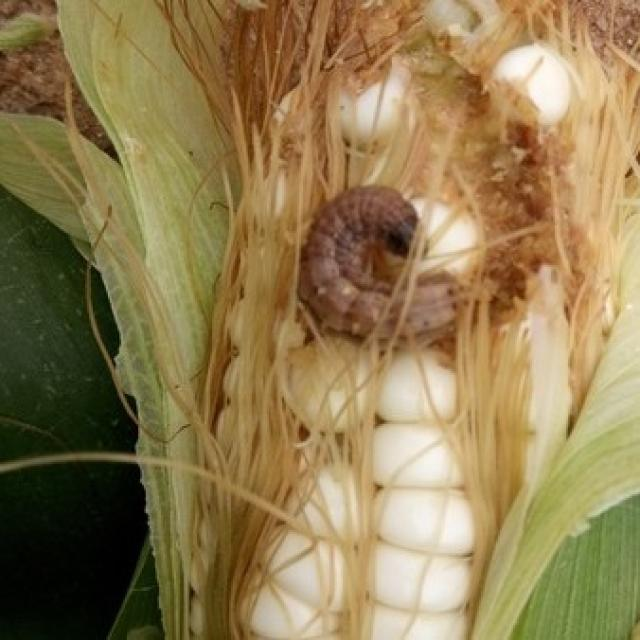worm: (296, 183, 463, 344)
